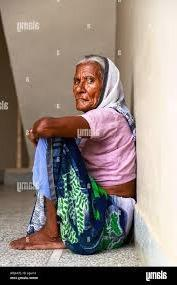Human: (27, 42, 140, 262)
